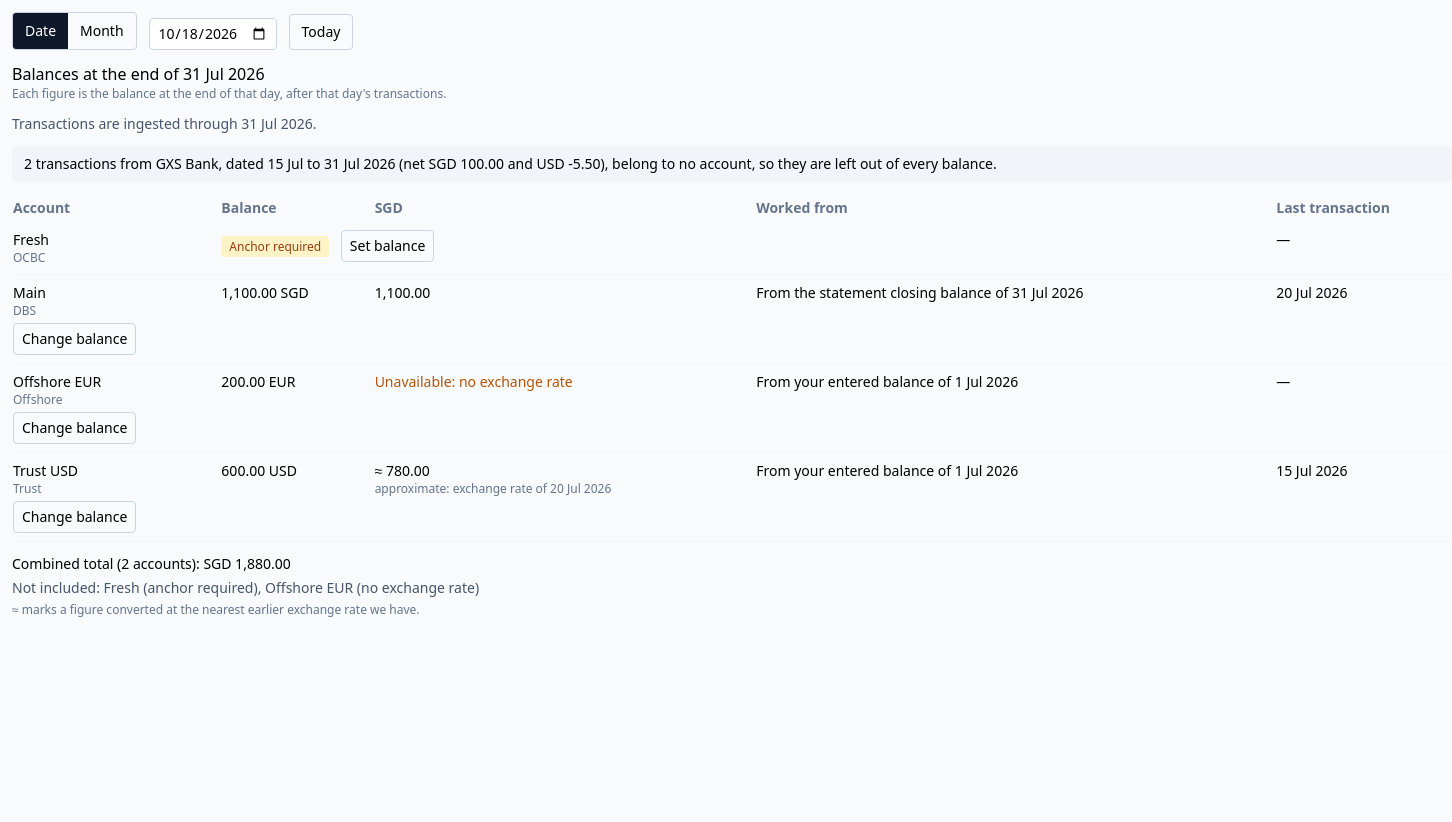
Test case: BalanceLookup › by month › switches to the month of the result, so the view does not jump
The width and height of the screenshot is (1452, 822).
Click the button with test id "lookup-mode-month": (102, 31) top-left (68, 13), bottom-right (136, 49)
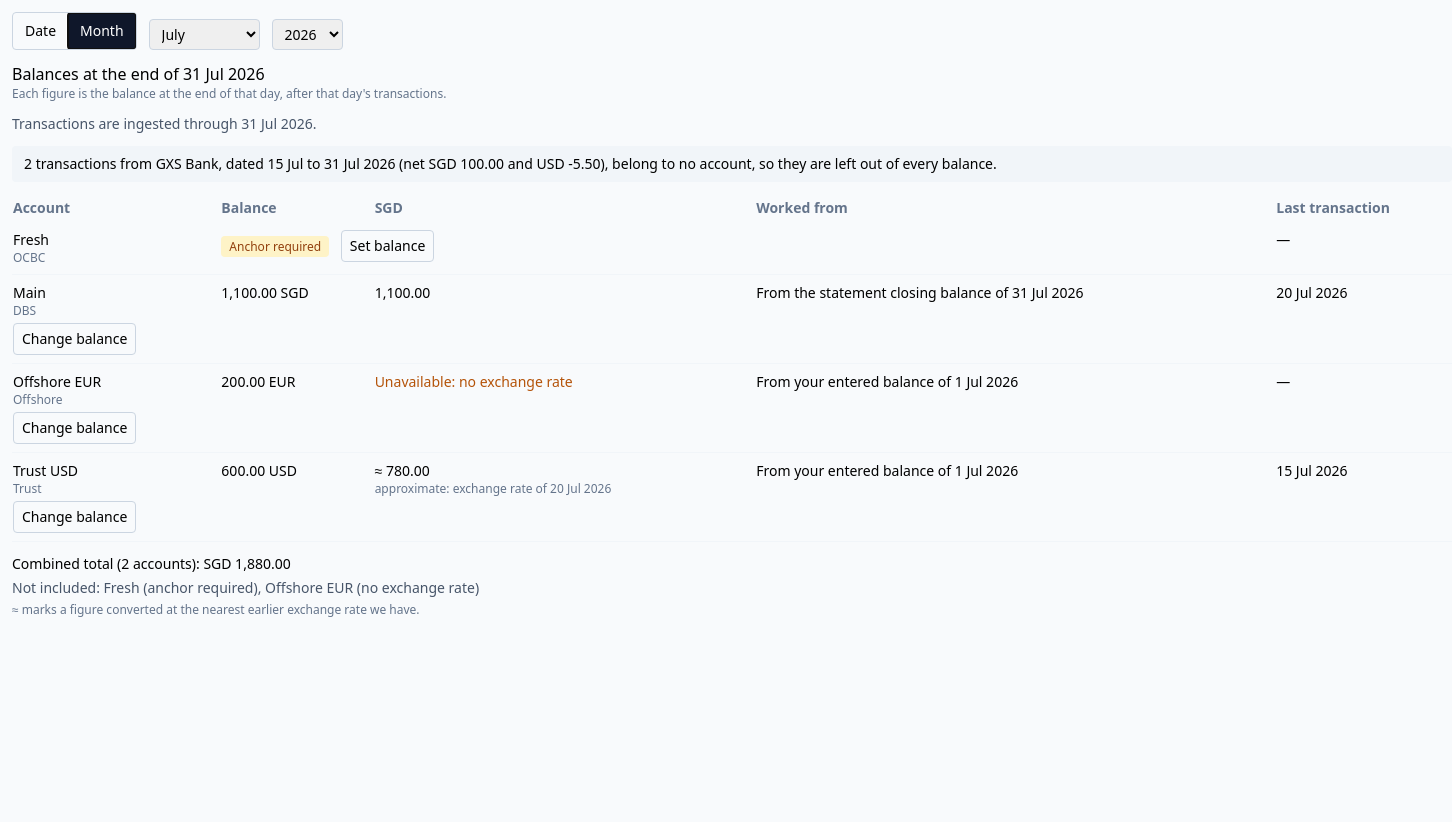
Expected: the dropdown with test id "lookup-month-select" shows "July", top-left (149, 19), bottom-right (260, 50)
Expected: the dropdown with test id "lookup-year-select" shows "2026", top-left (272, 19), bottom-right (343, 50)
Expected: the date field with test id "lookup-date-input" is gone
